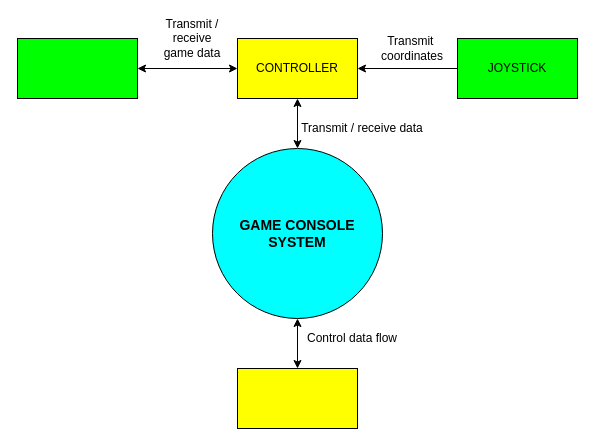
Some shapes in this 595 by 446 pixel diagram are drawn without their labels. Each missing label, with the centre of its shape:
"CENTRAL NODE" goes at point (297, 398).
"USER DISPLAY" goes at point (77, 68).
